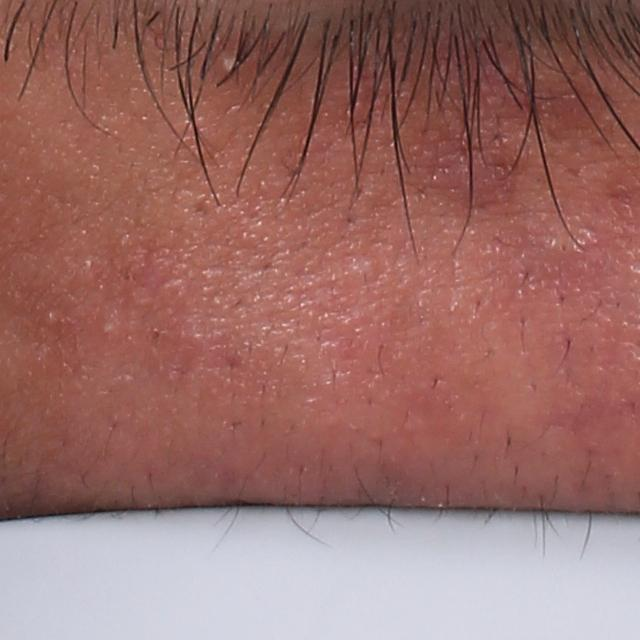comedo: (537, 215, 584, 262), (101, 323, 119, 336)
